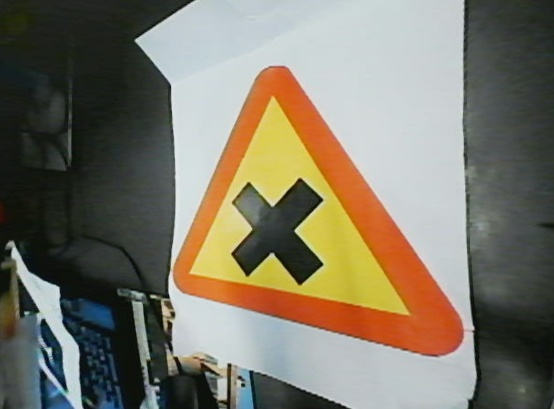junction: (158, 58, 469, 360)
